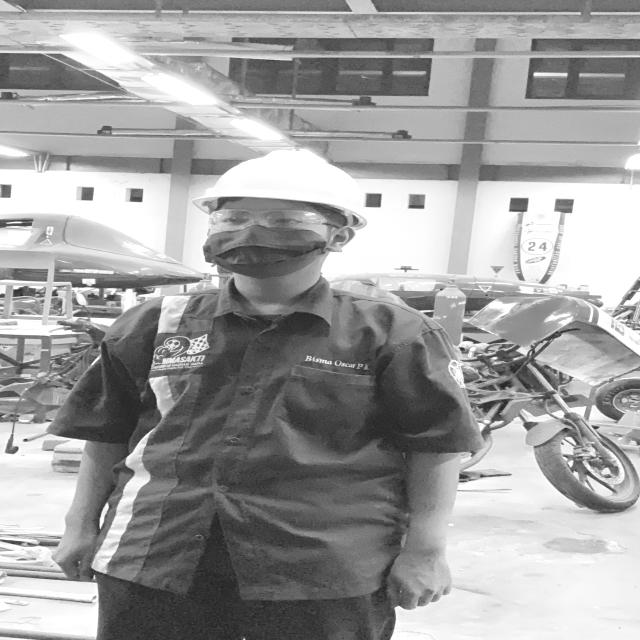face_mask: (198, 206, 329, 274)
glasses: (202, 206, 344, 231)
hand_noglove: (368, 551, 464, 614), (42, 528, 106, 584)
head_helmet: (193, 146, 371, 218)
person: (34, 139, 480, 640)
